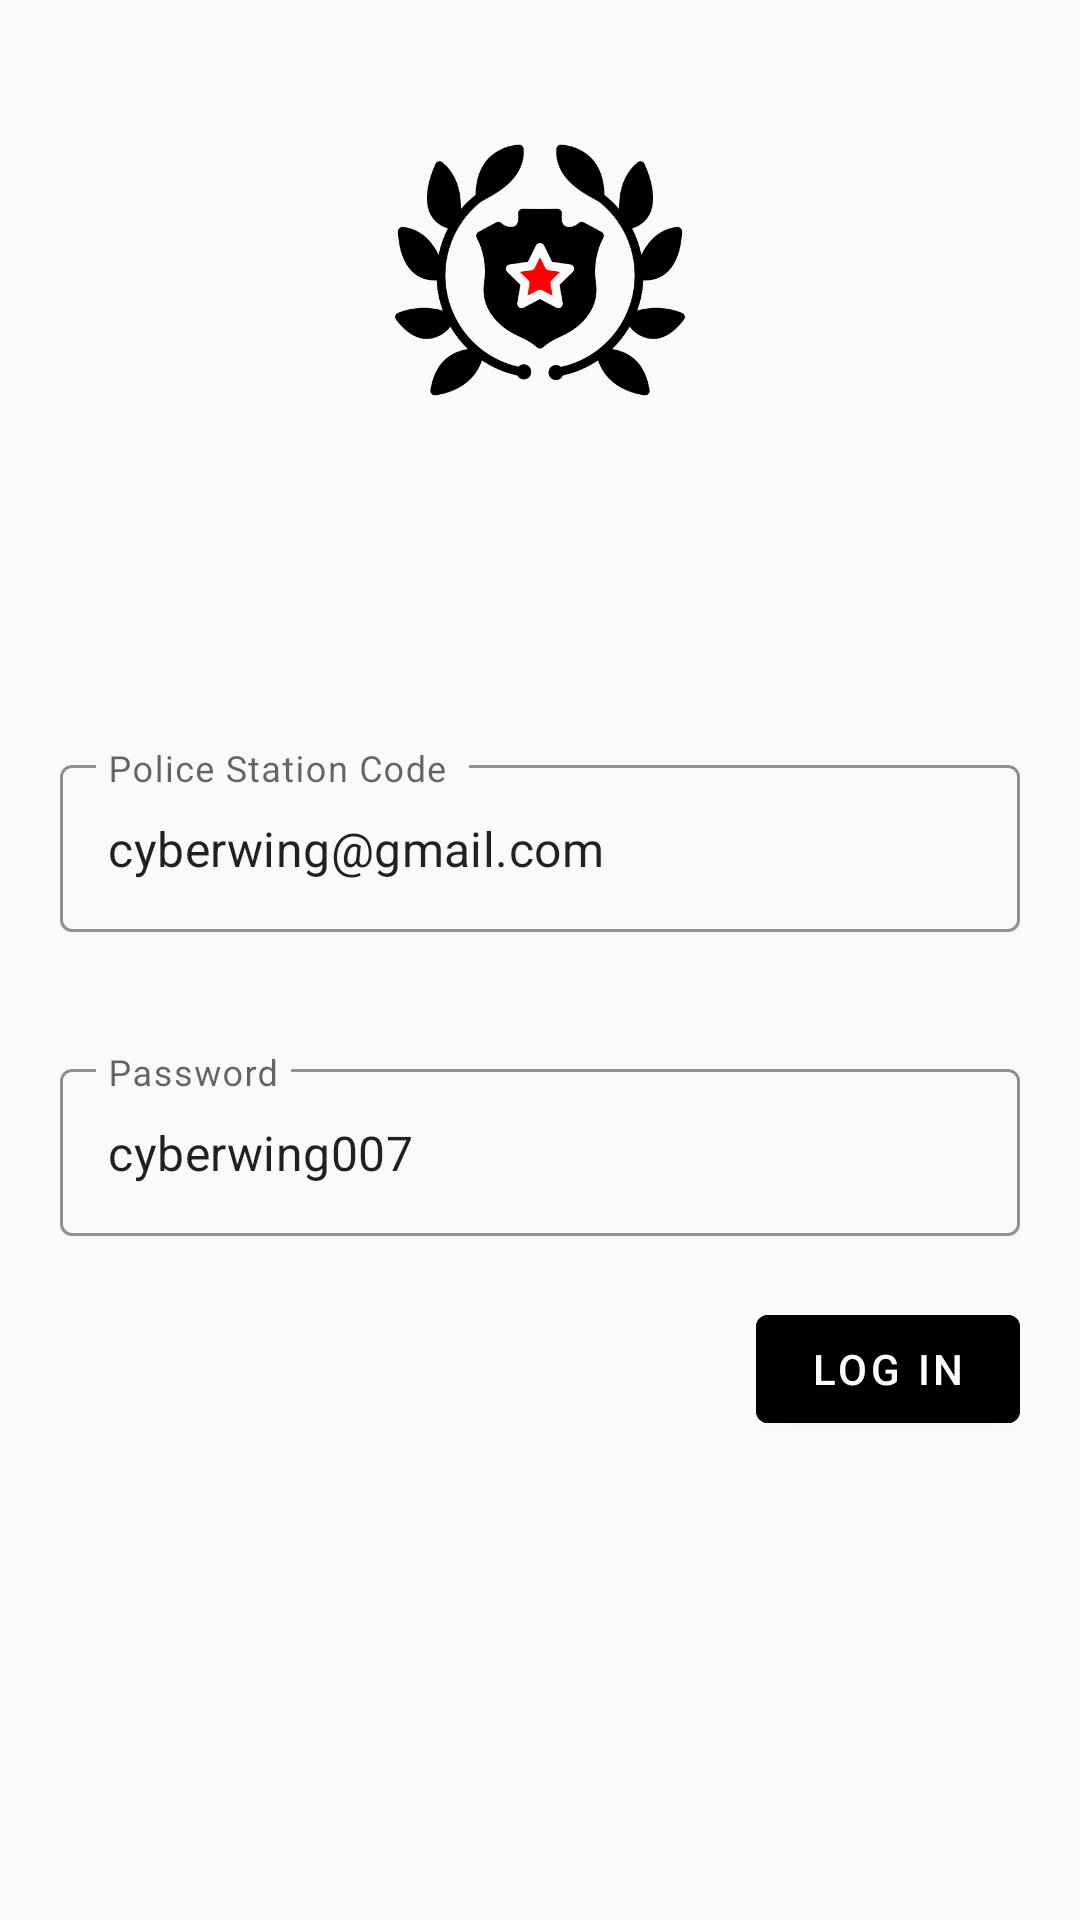

Screen size 1080x1920. Icon name, then its center in pixels as point (x, y):
badge: point (540, 270)
